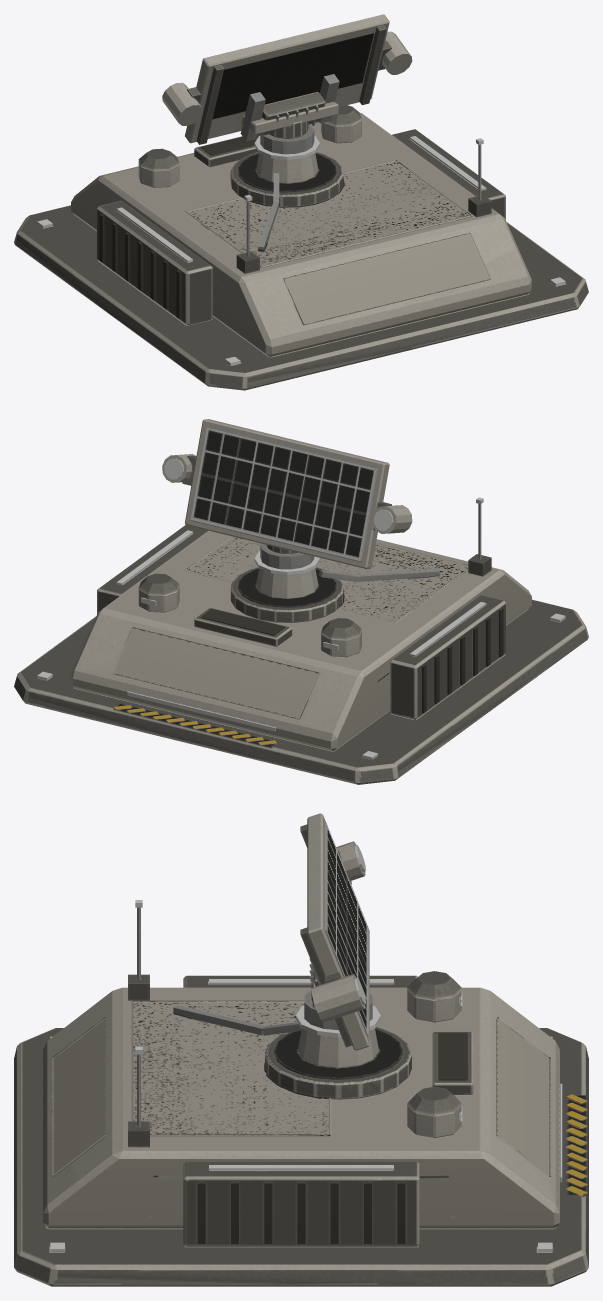
The model's file is ord_witness.fbx.
3 views of the same model, one above another, from view 1: azimuth 30°, elevation 25°; view 2: azimuth 150°, elevation 25°; view 3: azimuth 270°, elevation 25° (orthographic). The views are drawn at different scales.
Visible parts, largest first — view 1: base_bar, dish_bar, base_glow_running_bar; view 2: base_bar, dish_bar, dish_glow_running_bar, base_glow_running_bar; view 3: base_bar, dish_bar, base_glow_running_bar, dish_glow_running_bar.
Boxes of the visible parts, x1,y1,x2,y2 form: base_bar: (14, 105, 588, 390); dish_bar: (162, 14, 412, 144); base_glow_running_bar: (37, 135, 565, 365); base_bar: (14, 503, 588, 784); dish_bar: (162, 419, 412, 568); dish_glow_running_bar: (164, 427, 393, 561); base_glow_running_bar: (37, 497, 565, 759); base_bar: (14, 907, 588, 1286); dish_bar: (300, 813, 369, 1050); base_glow_running_bar: (50, 900, 562, 1252); dish_glow_running_bar: (326, 823, 368, 1034).
Bounding box in the file's own units: 1556 × 1085 × 1556.
2 materials, 2 textured.
